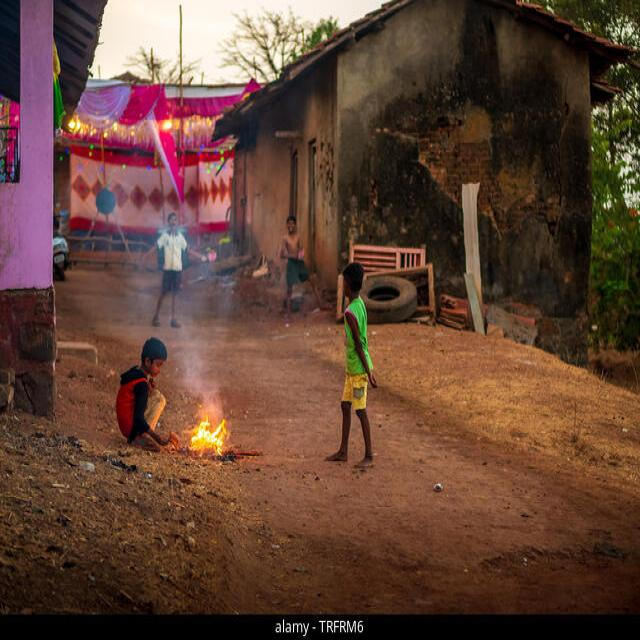fire: (190, 415, 226, 456)
